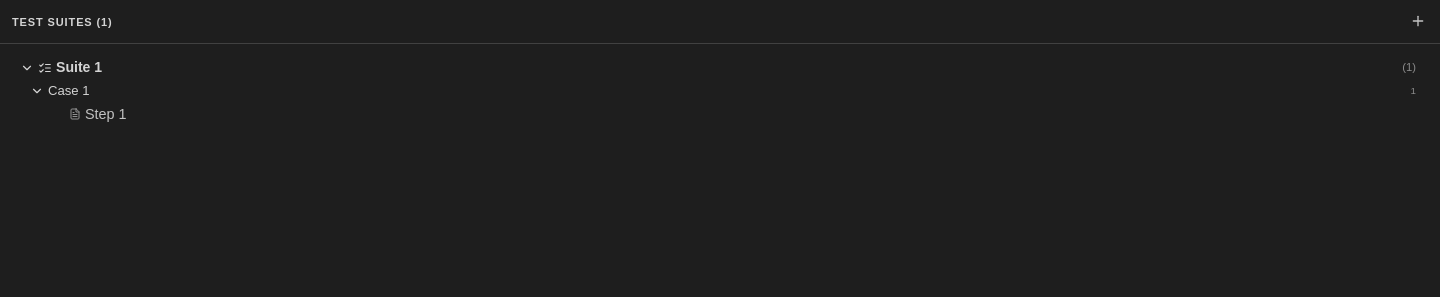
Test: TestsUi right-click import/export menu › right-clicking a suite offers Export Suite / Import Suite / Import Test Case
This screenshot has width=1440, height=297.
Right-click the text "Suite 1" at coordinates (79, 67), box [56, 59, 102, 75]
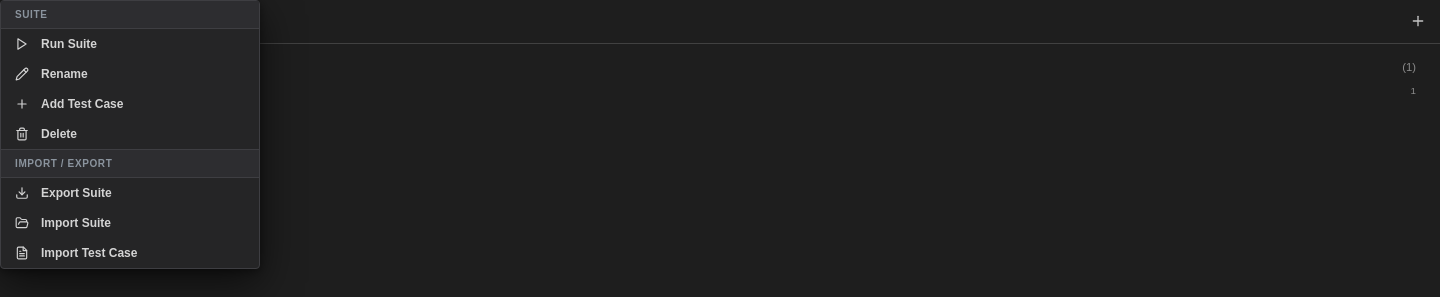
Now the text "Import / Export" is shown, box [1, 150, 259, 178]
Now the text "Export Suite" is shown, box [41, 186, 112, 200]
Now the text "Import Suite" is shown, box [41, 216, 111, 230]
